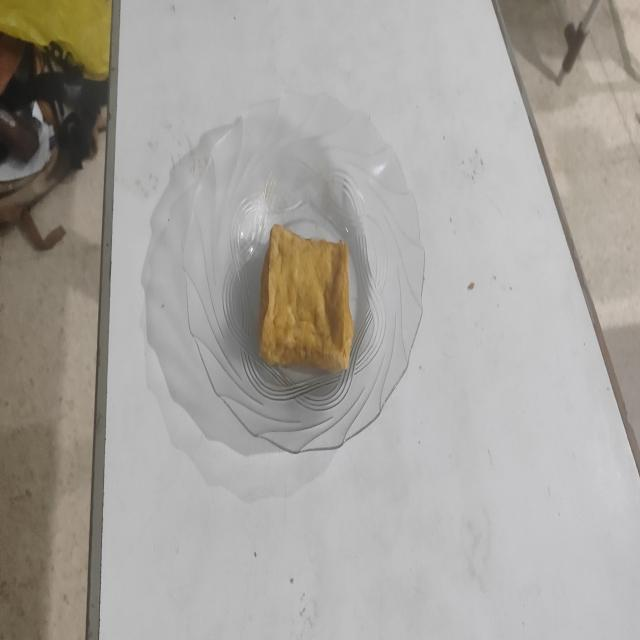tahu_goreng: (259, 225, 354, 372)
